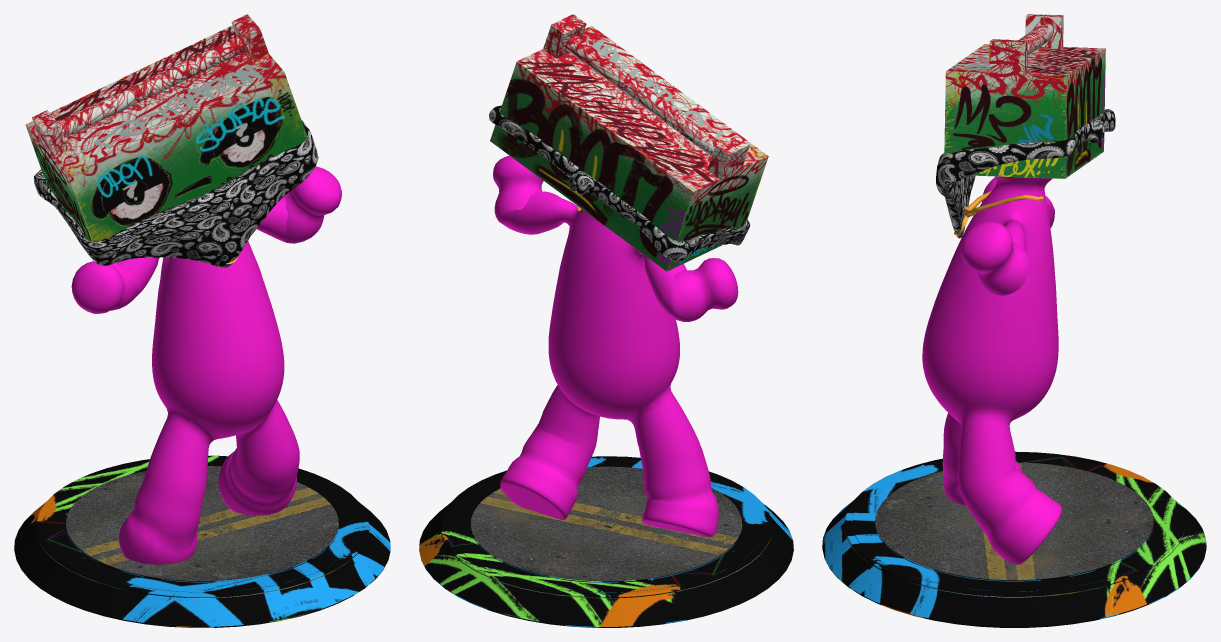
3 views of the same model, side by side, from view 1: azimuth 30°, elevation 25°; view 2: azimuth 150°, elevation 25°; view 3: azimuth 270°, elevation 25° (orthographic). The views are drawn at different scales.
Visible parts, largest first — view 1: BBody; view 2: BBody; view 3: BBody.
Boxes of the visible parts, x1=… form: BBody: x1=14, y1=14, x2=390, y2=627; BBody: x1=419, y1=14, x2=793, y2=627; BBody: x1=822, y1=14, x2=1206, y2=627.
Size of the model in its own units: 1.45 by 2.2 by 1.45.
6 materials, 5 textured.
